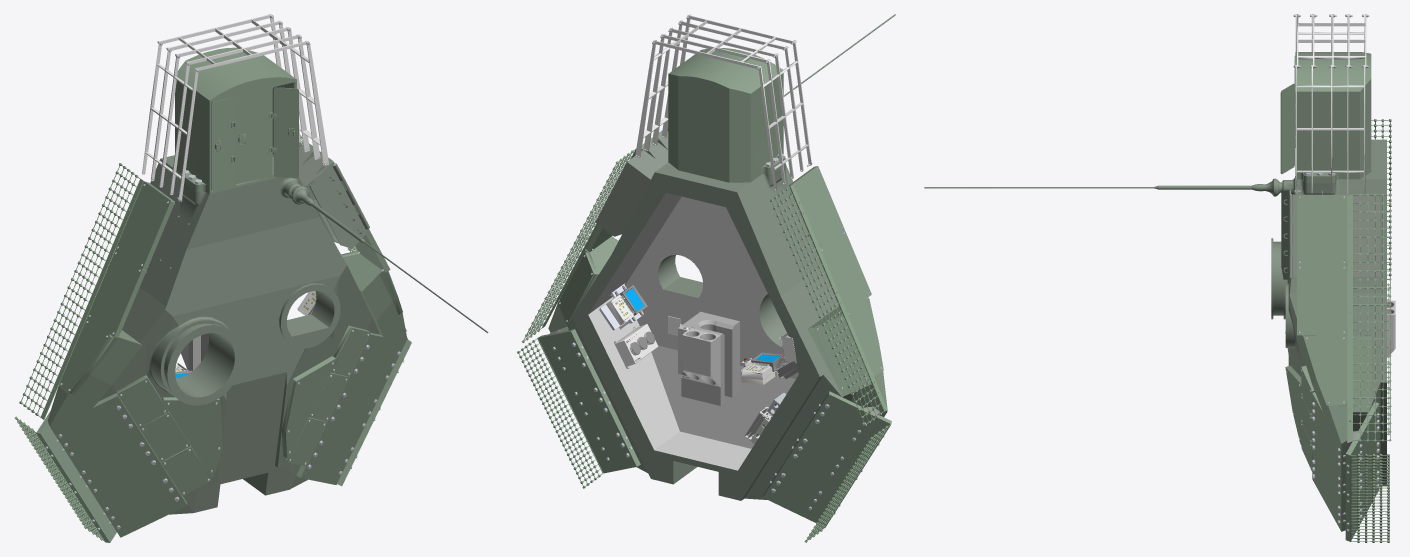
Rendered from t90m-stage.glb.
3 renders of one model, left to right at view 1: azimuth 30°, elevation 25°; view 2: azimuth 150°, elevation 25°; view 3: azimuth 270°, elevation 25°, orthographic. The views are drawn at different scales.
Visible parts, largest first — view 1: Protective Net; view 2: Protective Net; view 3: Protective Net.
Boxes of the visible parts, x1,y1,x2,y2 form: Protective Net: [14, 14, 488, 542]; Protective Net: [517, 14, 895, 542]; Protective Net: [924, 14, 1395, 542].
Bounding box in the file's own units: 3.15 × 3.85 × 3.65.
1 material, 1 textured.
